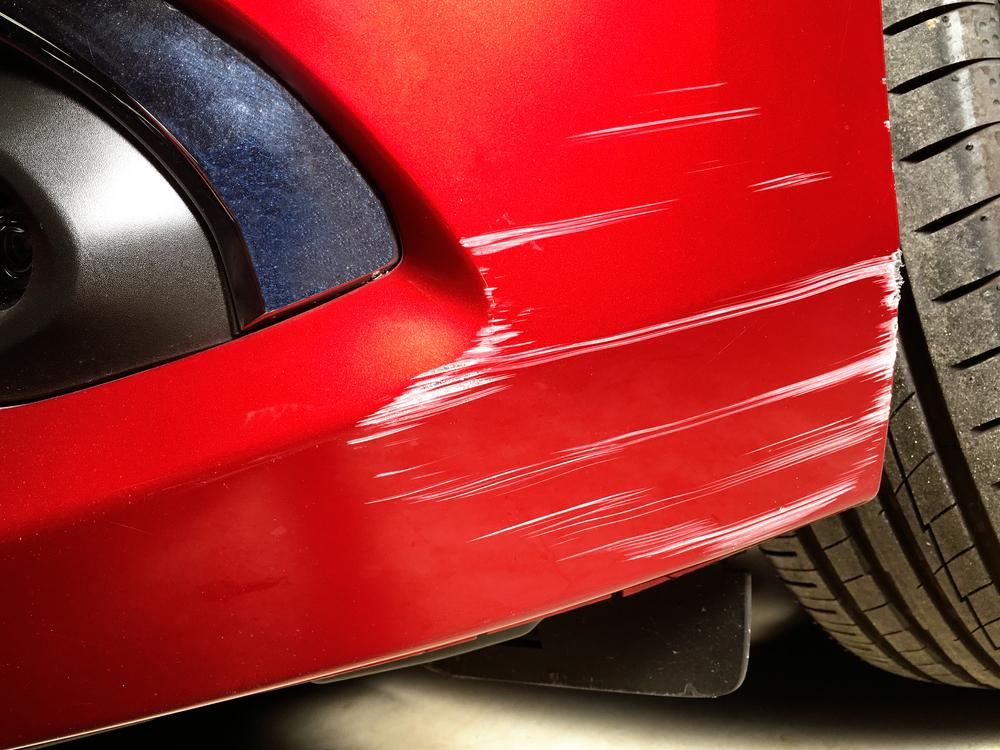scratch: (347, 77, 905, 575)
